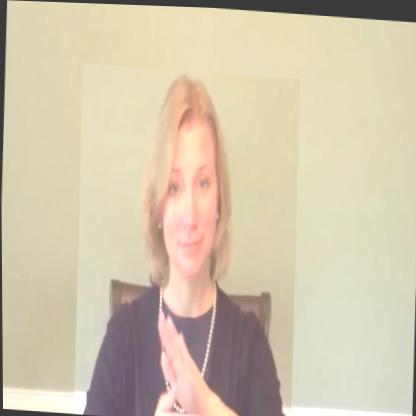NiceToMeetYou: (71, 62, 302, 416)
